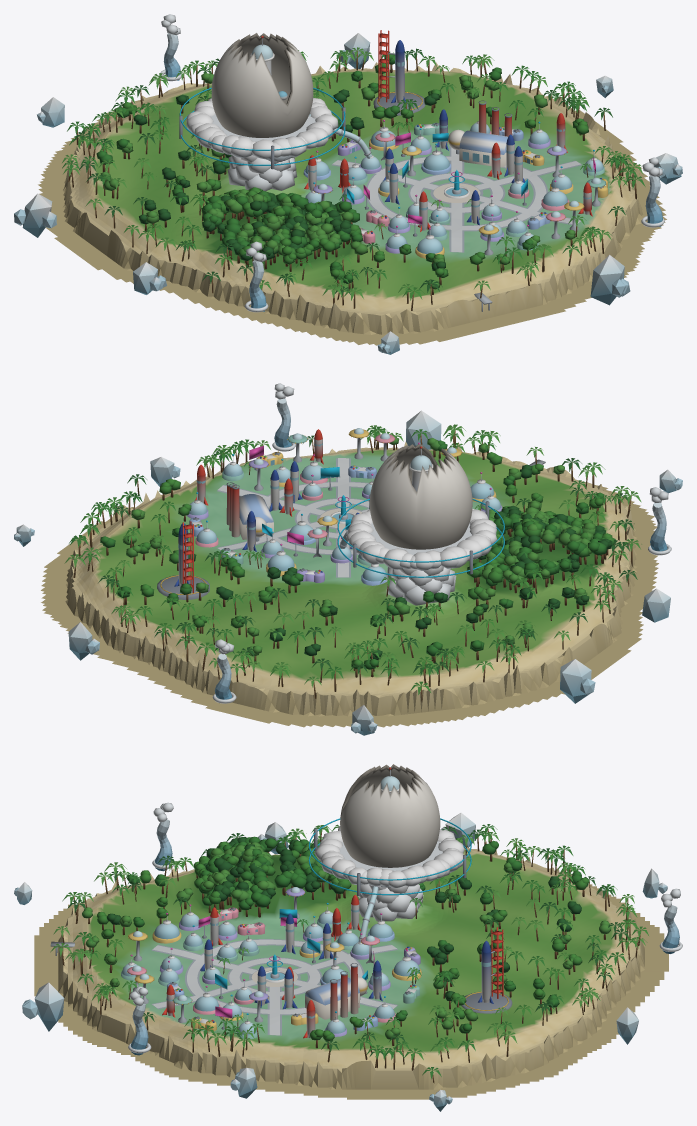
3 renders of one model, top to bottom at view 1: azimuth 30°, elevation 25°; view 2: azimuth 150°, elevation 25°; view 3: azimuth 270°, elevation 25°, orthographic. The views are drawn at different scales.
Visible parts, largest first — view 1: BASE, VILLE_3, VILLE_2, VILLE_4; view 2: BASE, VILLE_3, VILLE_2, VILLE_4; view 3: BASE, VILLE_3, VILLE_2, VILLE_4.
Boxes of the visible parts, x1,y1,x2,y2 form: BASE: (14,14,682,354); VILLE_3: (303,109,608,258); VILLE_2: (342,128,573,241); VILLE_4: (373,30,425,115); BASE: (14,383,682,735); VILLE_3: (187,428,502,585); VILLE_2: (239,454,376,565); VILLE_4: (157,521,209,599); BASE: (14,764,682,1111); VILLE_3: (121,887,421,1039); VILLE_2: (158,907,390,1025); VILLE_4: (461,927,512,1013).
Bounding box in the file's own units: 68.98 × 20.83 × 69.57.
